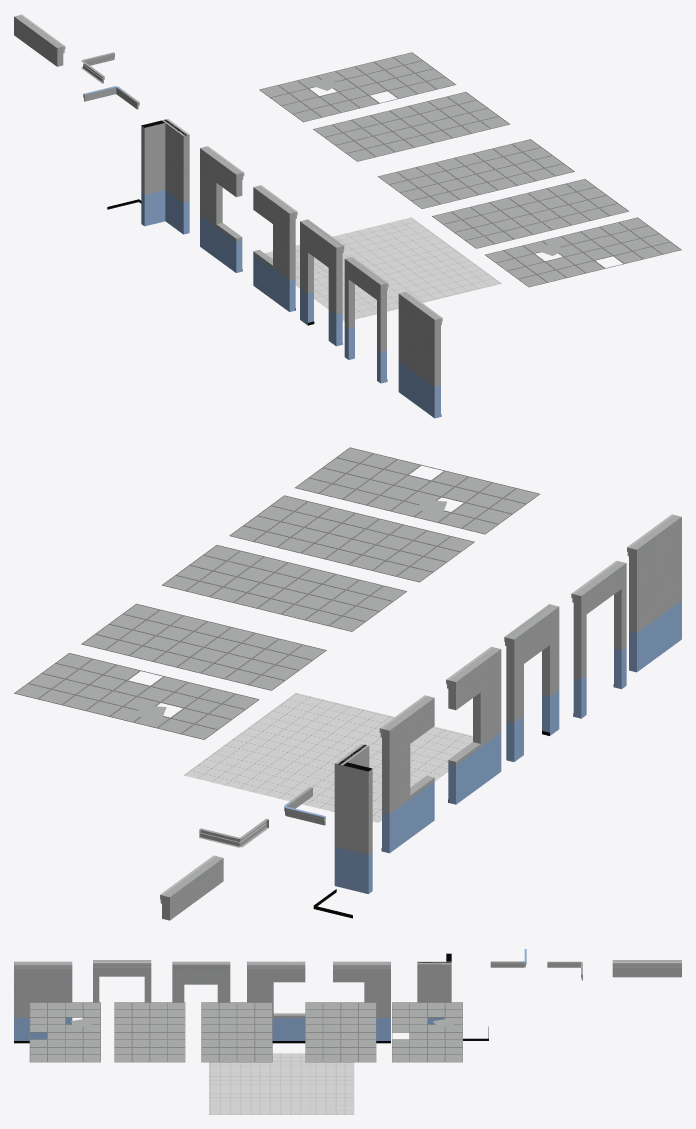
File: env_corridor_modular.glb
3 renders of one model, top to bottom at view 1: azimuth 30°, elevation 25°; view 2: azimuth 150°, elevation 25°; view 3: azimuth 270°, elevation 25°, orthographic. The views are drawn at different scales.
Parts seen in each view (by area): view 1: FloorTiles_1, CeilingTileVar3_14, CeilingTileVar2.001_13, CeilingTileVar5_15, CeilingTileVar2_12, CeilingTileVar6_16, Wall.001_4, Wall_2, WallWindowL_10, WallWindowR_11, HalwayWallDoor.001_3, WallElevator_9 (+1 smaller); view 2: FloorTiles_1, CeilingTileVar5_15, CeilingTileVar2.001_13, CeilingTileVar3_14, CeilingTileVar2_12, CeilingTileVar6_16, Wall_2, WallWindowL_10, WallWindowR_11, HalwayWallDoor.001_3, Wall.001_4, WallElevator_9 (+3 smaller); view 3: FloorTiles_1, CeilingTileVar2.001_13, CeilingTileVar3_14, CeilingTileVar5_15, CeilingTileVar2_12, CeilingTileVar6_16, Wall_2, WallWindowL_10, WallWindowR_11, HalwayWallDoor.001_3, Wall.001_4, WallElevator_9 (+3 smaller).
Boxes of the visible parts, x1=… form: FloorTiles_1: x1=265, y1=217, x2=501, y2=320; CeilingTileVar3_14: x1=313, y1=92, x2=510, y2=161; CeilingTileVar2.001_13: x1=377, y1=139, x2=574, y2=208; CeilingTileVar5_15: x1=432, y1=179, x2=629, y2=248; CeilingTileVar2_12: x1=485, y1=217, x2=681, y2=287; CeilingTileVar6_16: x1=259, y1=52, x2=456, y2=122; Wall.001_4: x1=141, y1=119, x2=189, y2=234; Wall_2: x1=398, y1=291, x2=442, y2=418; WallWindowL_10: x1=253, y1=185, x2=297, y2=311; WallWindowR_11: x1=200, y1=146, x2=244, y2=272; HalwayWallDoor.001_3: x1=300, y1=219, x2=344, y2=346; WallElevator_9: x1=344, y1=256, x2=388, y2=383; FloorTiles_1: x1=183, y1=693, x2=472, y2=822; CeilingTileVar5_15: x1=229, y1=495, x2=474, y2=582; CeilingTileVar2.001_13: x1=162, y1=545, x2=406, y2=631; CeilingTileVar3_14: x1=81, y1=603, x2=326, y2=690; CeilingTileVar2_12: x1=295, y1=447, x2=539, y2=534; CeilingTileVar6_16: x1=14, y1=653, x2=259, y2=739; Wall_2: x1=627, y1=514, x2=681, y2=672; WallWindowL_10: x1=446, y1=646, x2=501, y2=804; WallWindowR_11: x1=379, y1=695, x2=434, y2=853; HalwayWallDoor.001_3: x1=504, y1=604, x2=559, y2=761; Wall.001_4: x1=334, y1=744, x2=372, y2=893; WallElevator_9: x1=571, y1=560, x2=626, y2=718; FloorTiles_1: x1=209, y1=1053, x2=354, y2=1114; CeilingTileVar2.001_13: x1=201, y1=1002, x2=272, y2=1062; CeilingTileVar3_14: x1=305, y1=1002, x2=376, y2=1062; CeilingTileVar5_15: x1=114, y1=1002, x2=185, y2=1062; CeilingTileVar2_12: x1=29, y1=1002, x2=100, y2=1062; CeilingTileVar6_16: x1=392, y1=1002, x2=462, y2=1062; Wall_2: x1=14, y1=961, x2=72, y2=1043; WallWindowL_10: x1=247, y1=961, x2=305, y2=1043; WallWindowR_11: x1=333, y1=961, x2=390, y2=1043; HalwayWallDoor.001_3: x1=172, y1=961, x2=230, y2=1002; Wall.001_4: x1=417, y1=953, x2=451, y2=1024; WallElevator_9: x1=93, y1=960, x2=151, y2=1002.
Size of the model in its own units: 9.21 by 3.02 by 22.97.
Materials: 8 (6 with a texture image).
